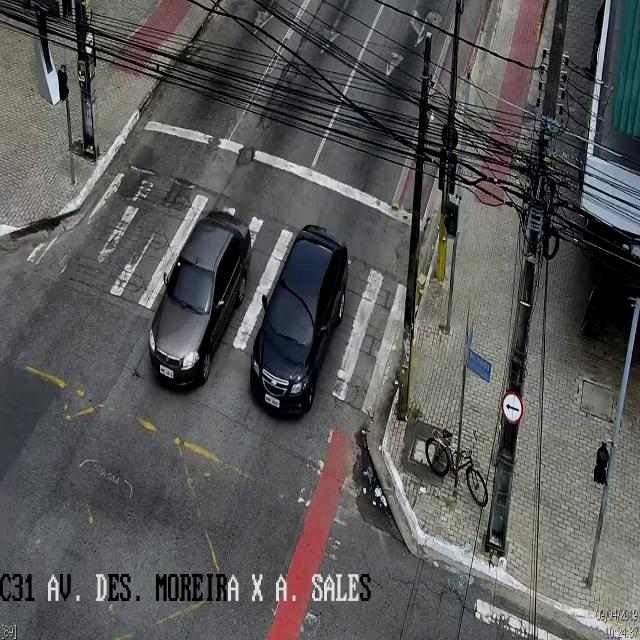Car: (251, 223, 349, 417), (149, 213, 251, 391)
